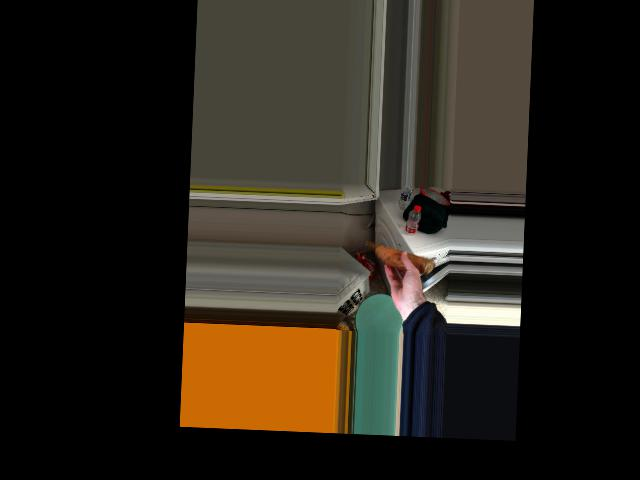sweet_potato: (366, 238, 431, 277)
